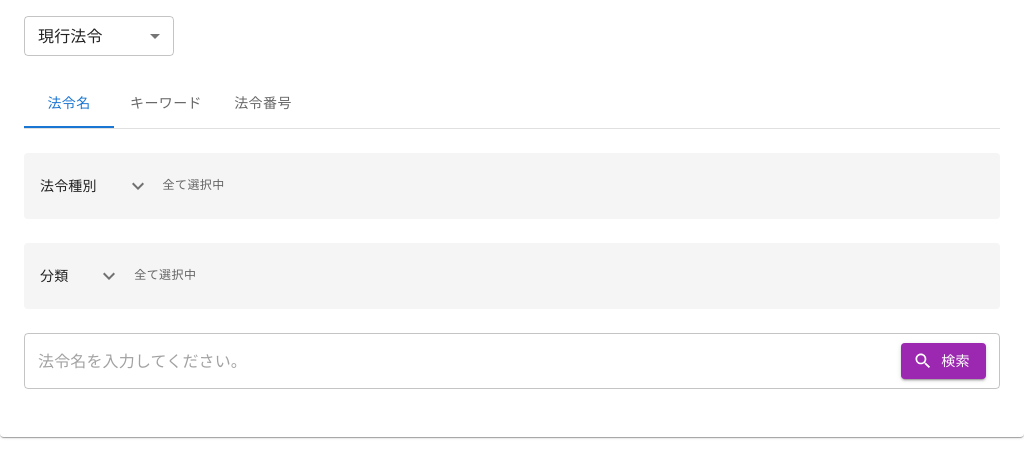
Test: SearchForm › should switch to keyword search when keyword tab is clicked
Click the tab "キーワード".
click(166, 104)  # box [114,80,218,128]
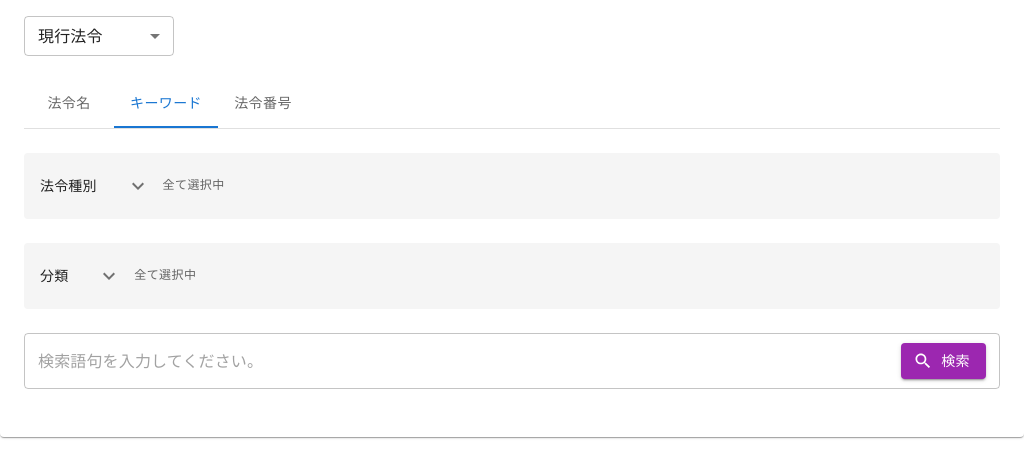
Expected: the field with placeholder "検索語句を入力してください。" is shown, [24,333,893,389]
